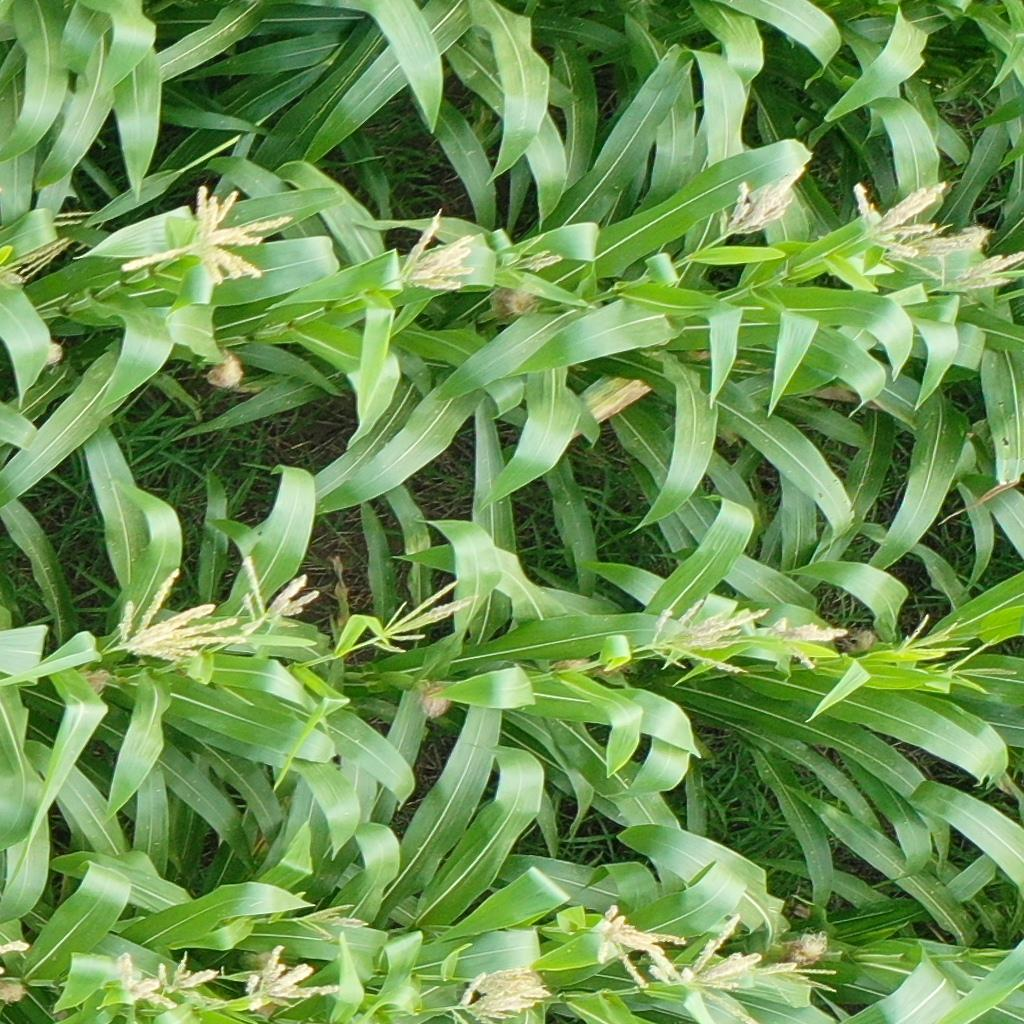Tassel: (117, 184, 291, 285), (112, 569, 243, 664), (655, 913, 760, 1024), (645, 599, 768, 678), (376, 582, 481, 661), (590, 904, 685, 991), (850, 176, 947, 258), (396, 210, 478, 299), (236, 556, 320, 636), (241, 944, 340, 1011), (723, 164, 806, 238), (886, 221, 988, 280), (449, 971, 549, 1024), (762, 615, 848, 674), (949, 632, 1021, 698), (110, 952, 178, 1016), (155, 952, 227, 1009), (759, 958, 846, 1004), (945, 250, 1024, 294), (498, 234, 568, 278), (294, 903, 369, 942), (896, 614, 953, 665), (472, 969, 549, 1000), (1, 254, 36, 296)
